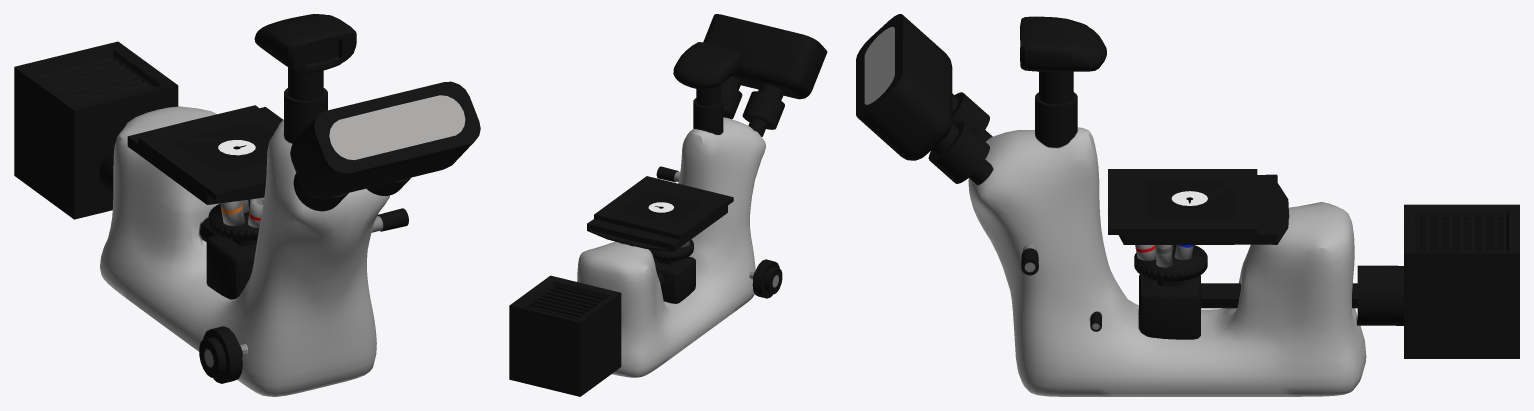
Rendered from Microscopio-Lite_LOD.fbx.
The picture shows the model from 3 angles, left to right: view 1: azimuth 30°, elevation 25°; view 2: azimuth 150°, elevation 25°; view 3: azimuth 270°, elevation 25°; orthographic projection. The views are drawn at different scales.
Parts seen in each view (by area): view 1: MicroscopioStatic_LOD0, Lente_LOD0, MicroscopioNoStatic_LOD0; view 2: MicroscopioStatic_LOD0, MicroscopioNoStatic_LOD0; view 3: MicroscopioStatic_LOD0, MicroscopioNoStatic_LOD0, Lente_LOD0.
Part boxes in pixels (left/top/right/bottom): MicroscopioStatic_LOD0: left=14, top=14, right=480, bottom=396; Lente_LOD0: left=329, top=95, right=465, bottom=160; MicroscopioNoStatic_LOD0: left=208, top=197, right=264, bottom=240; MicroscopioStatic_LOD0: left=509, top=14, right=827, bottom=396; MicroscopioNoStatic_LOD0: left=649, top=239, right=693, bottom=261; MicroscopioStatic_LOD0: left=856, top=14, right=1519, bottom=396; MicroscopioNoStatic_LOD0: left=1134, top=245, right=1207, bottom=281; Lente_LOD0: left=864, top=27, right=894, bottom=104.
Size of what is drawn, in the model's own units: 185 by 346 by 603.
